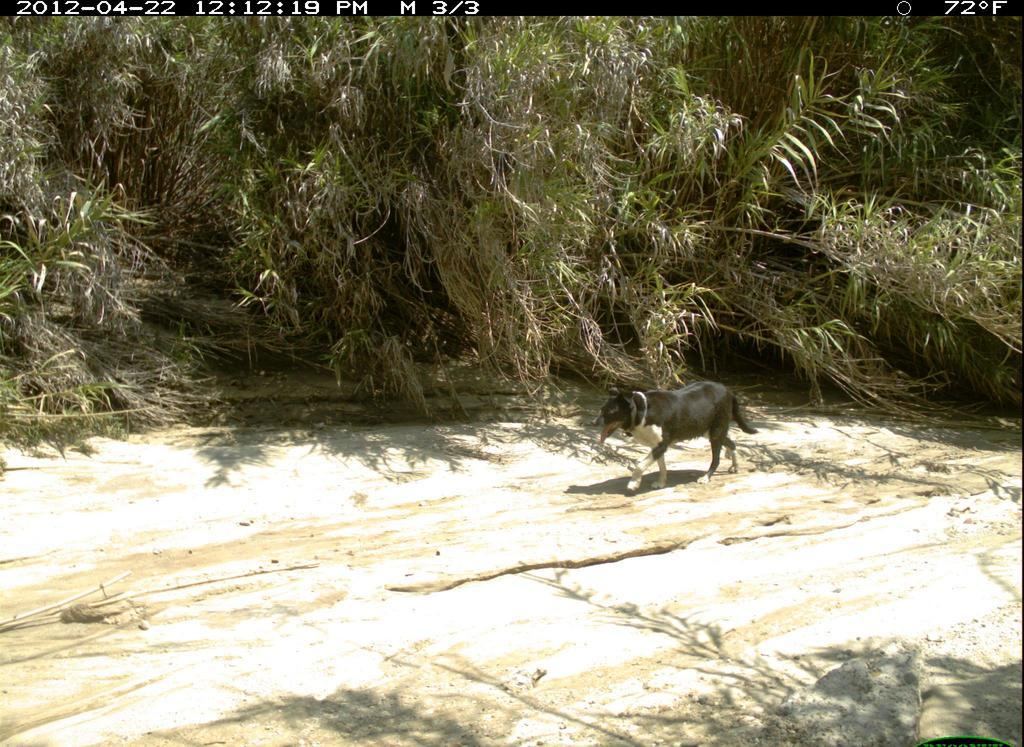dog: (575, 356, 776, 505)
